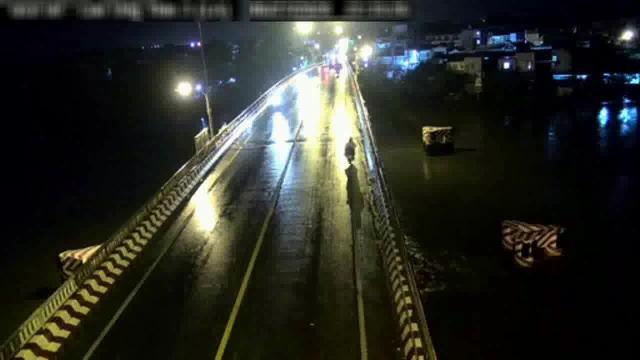Bike: (344, 134, 358, 164)
